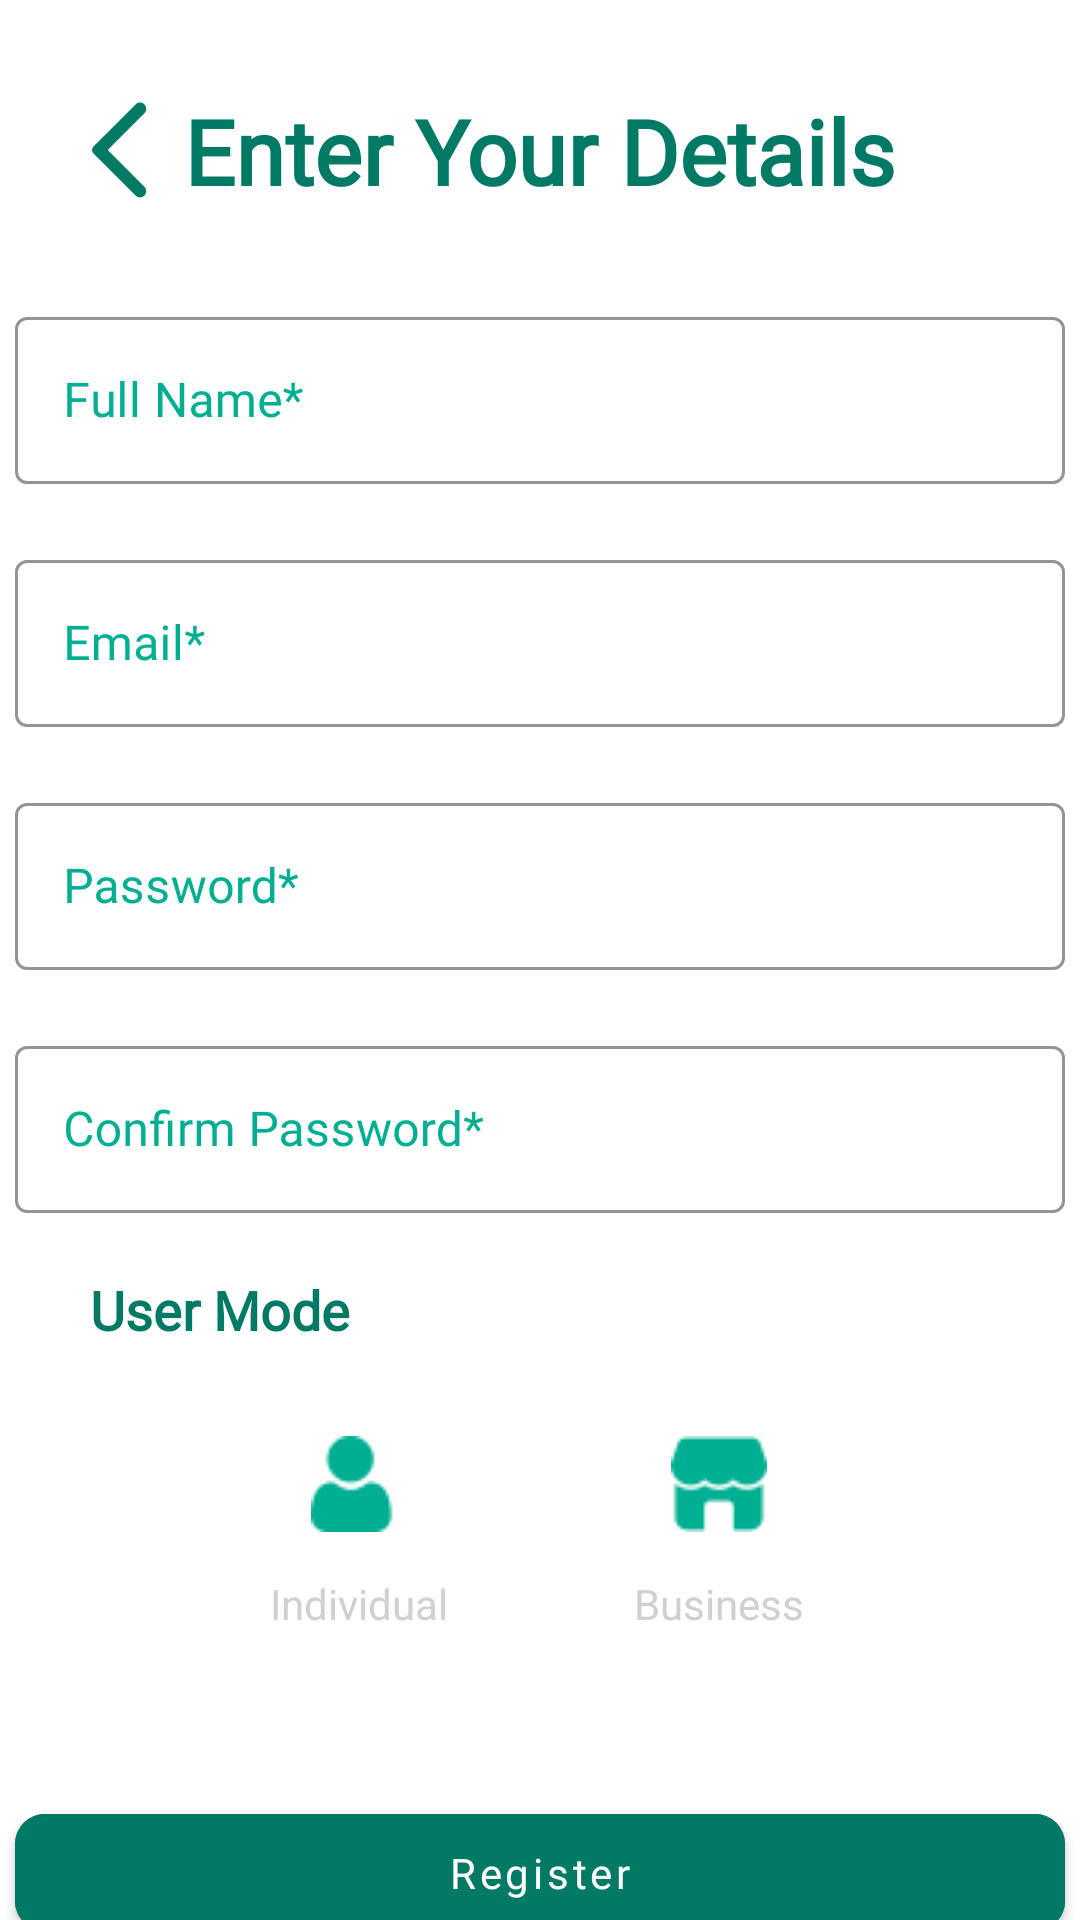

Icons on this 1080px x 1920px Android screen, each with its box as (x1, y1, x2, y2):
back activity: (92, 102, 147, 198)
